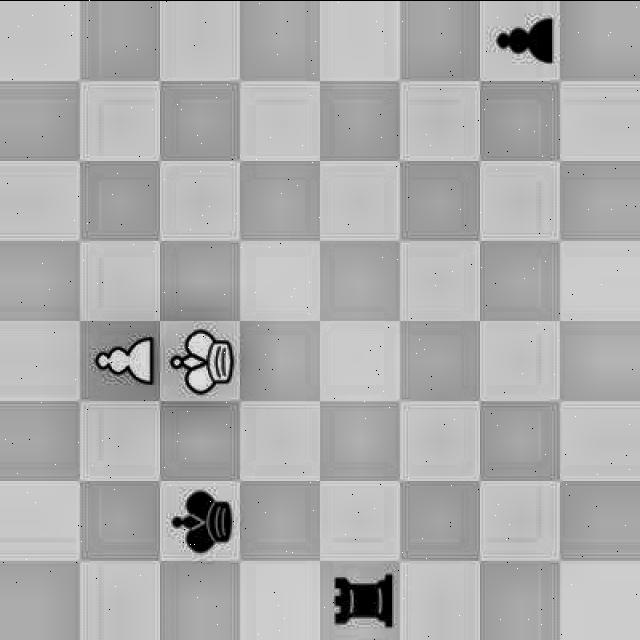black king: (167, 490, 240, 556)
black pawn: (488, 1, 558, 80)
black rook: (324, 549, 398, 637)
white king: (168, 322, 238, 404)
white pawn: (85, 322, 155, 394)
